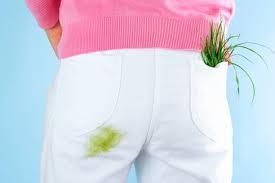earth: (87, 130, 121, 153)
